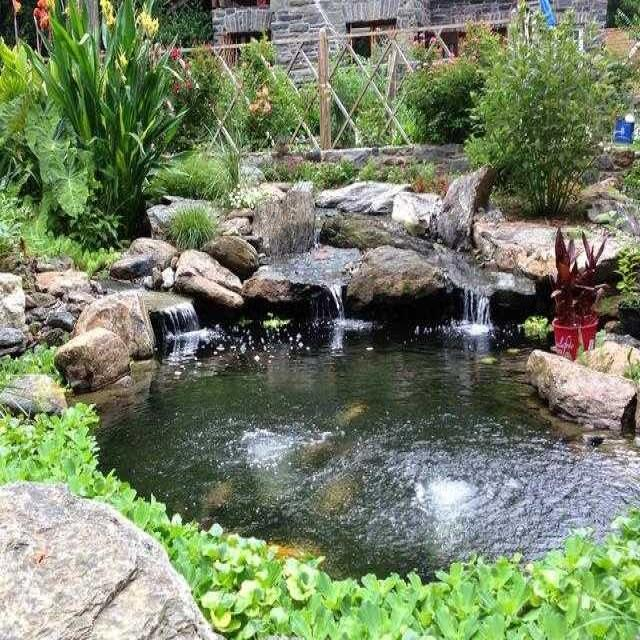Ponds: (1, 164, 640, 640)
